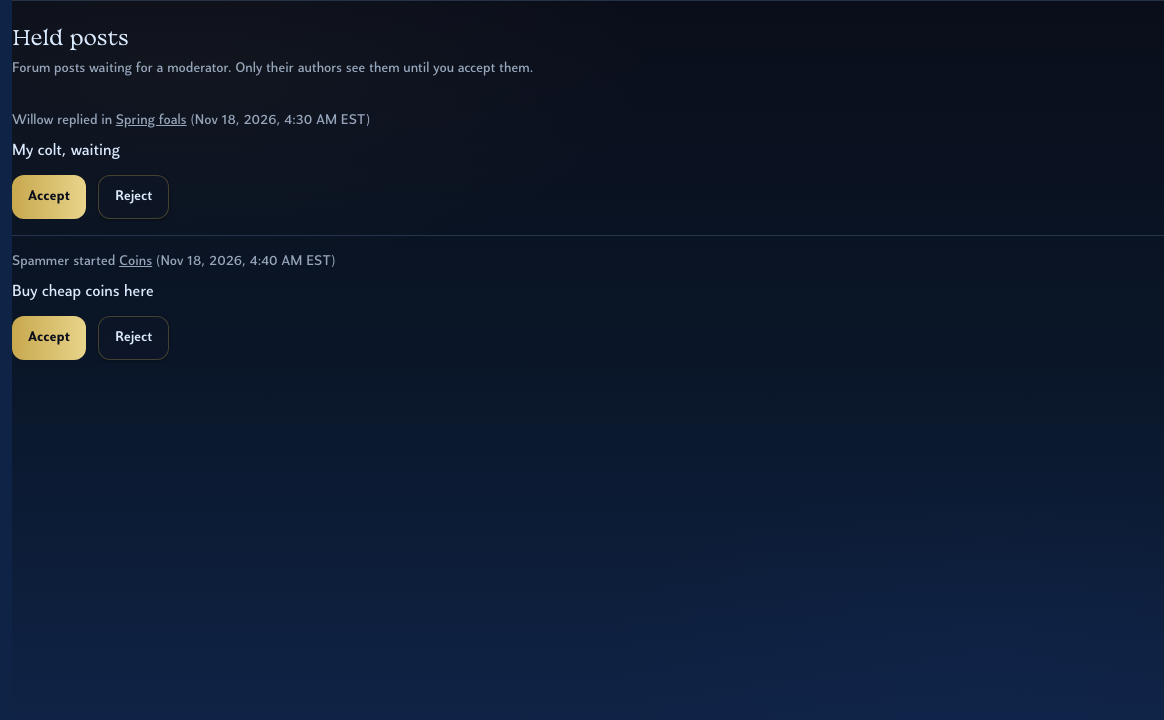
Test: StaffHeldPosts › says when another steward decided the post first
Click the button "Accept" below "Willow" at (49, 197), box [12, 175, 86, 219]
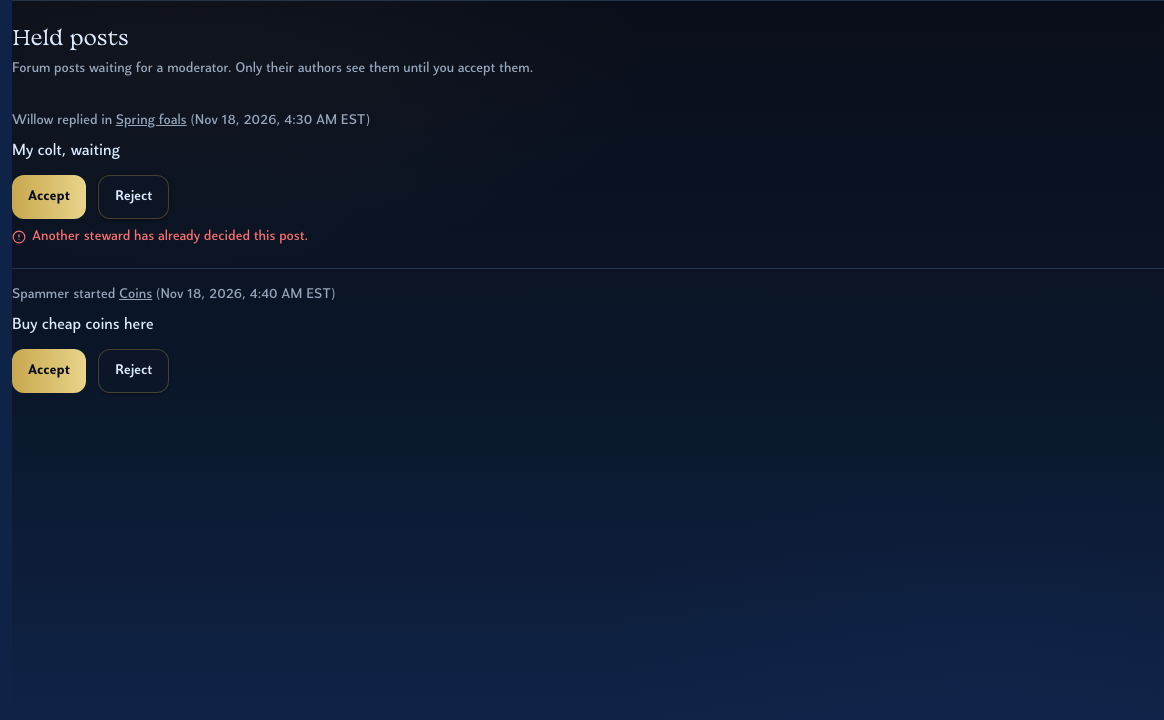
Expected: the text "Another steward has already decided this post." is shown, [32, 227, 308, 247]
